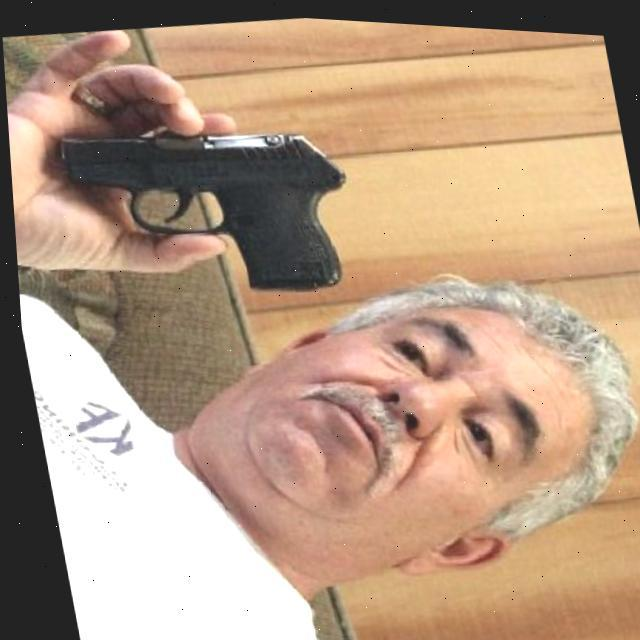gun: (45, 98, 376, 327)
